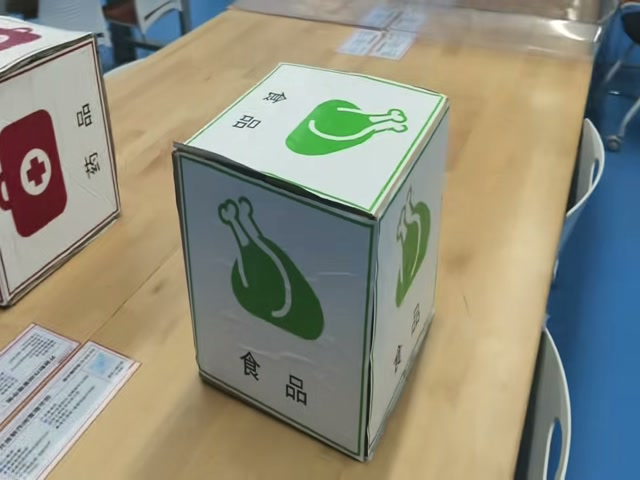Cube_food: (176, 62, 447, 223)
Cube_medicine: (1, 18, 94, 82)
